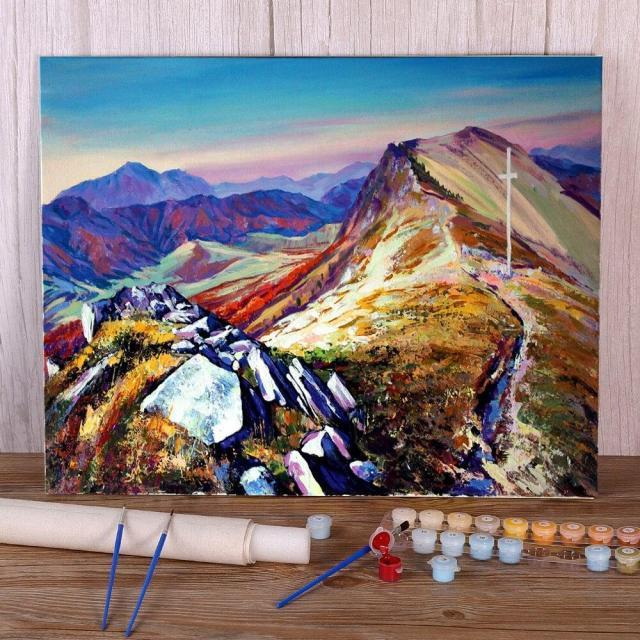painting: (40, 56, 600, 495)
